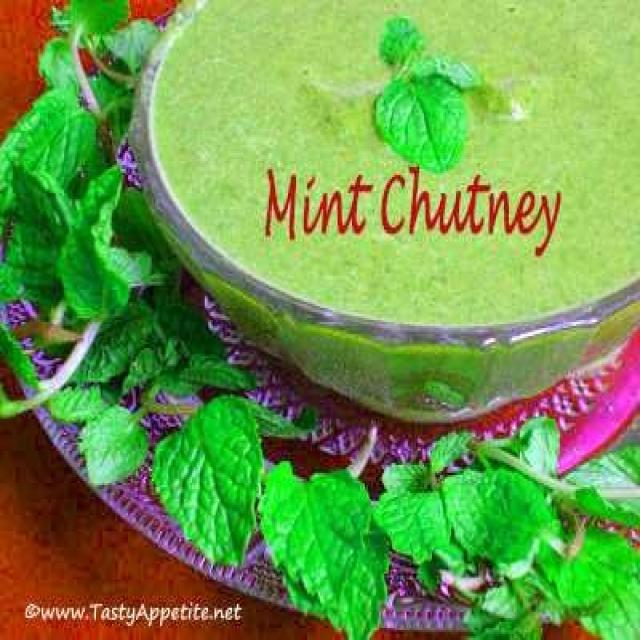puthina chutney: (151, 0, 640, 374)
